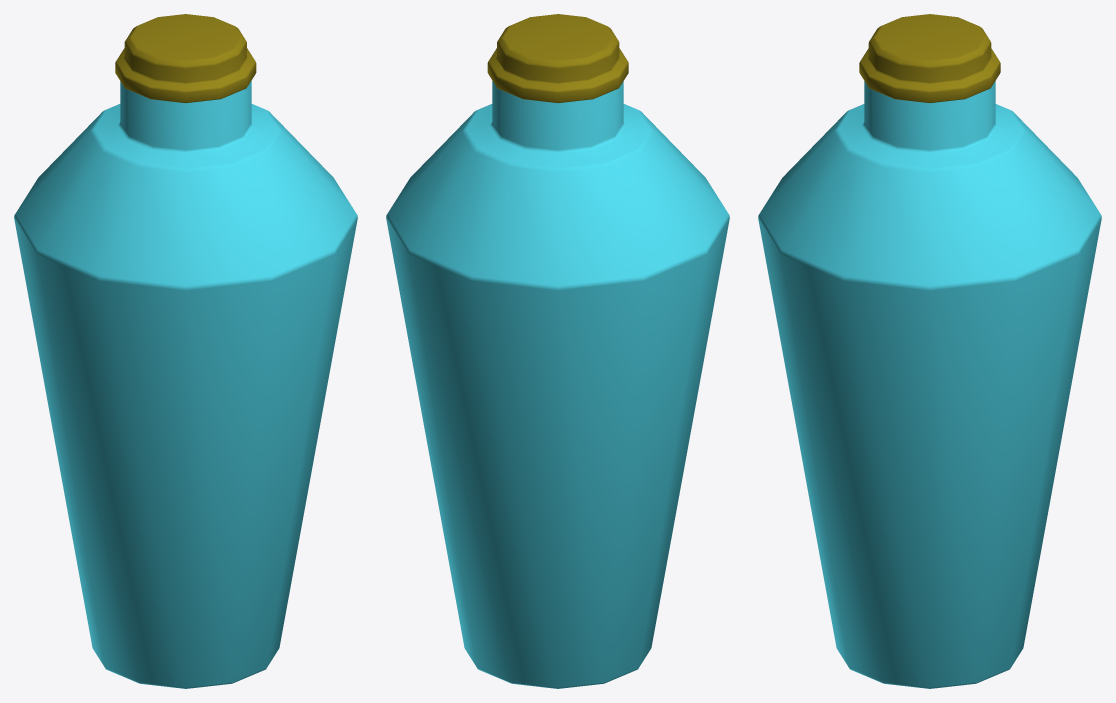
The model's file is potion18.FBX.
3 renders of one model, left to right at view 1: azimuth 30°, elevation 25°; view 2: azimuth 150°, elevation 25°; view 3: azimuth 270°, elevation 25°, orthographic.
Visible parts, largest first — view 1: potion_18glass; view 2: potion_18glass; view 3: potion_18glass.
Part boxes in pixels (<box>): potion_18glass: <box>14,14,357,688</box>; potion_18glass: <box>386,14,729,688</box>; potion_18glass: <box>758,14,1101,688</box>.
Size of the model in its own units: 25.3 by 49.81 by 25.3.
